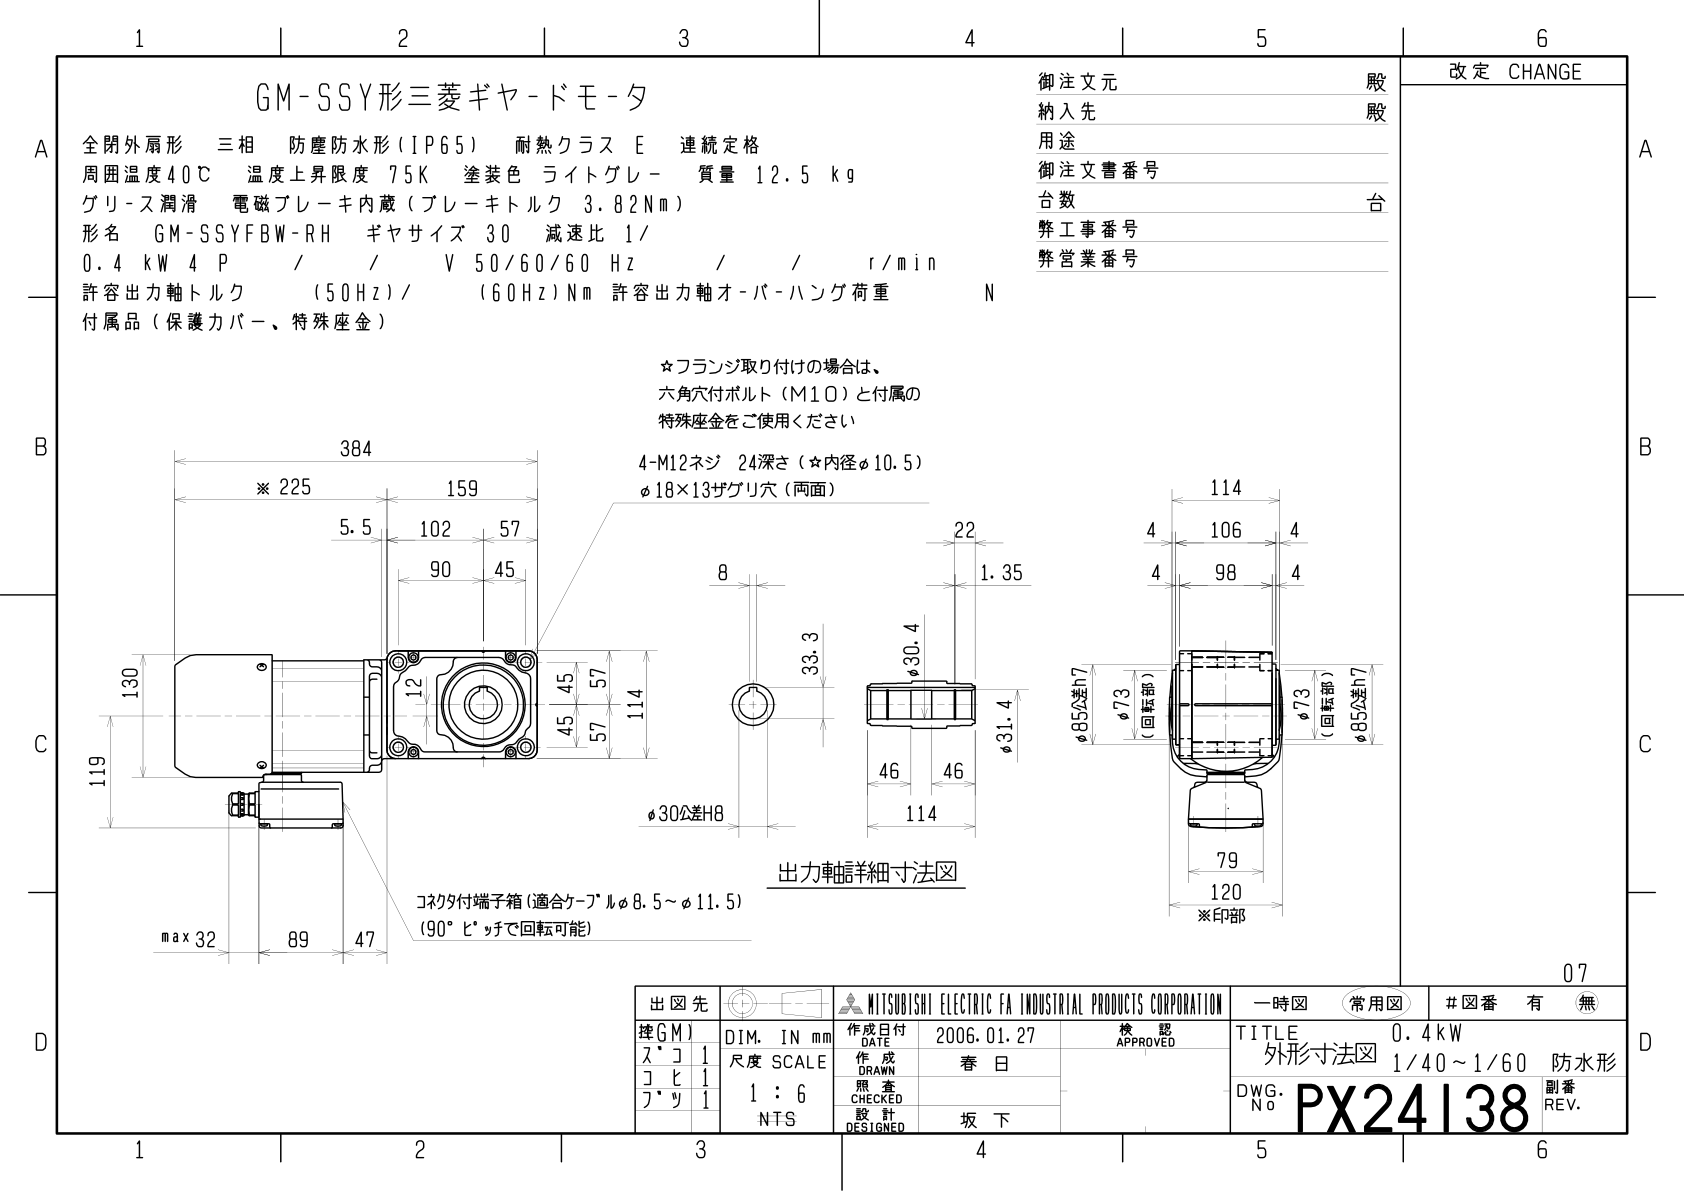GM_SSY_IP65_三相: (1, 1, 1678, 1178)
